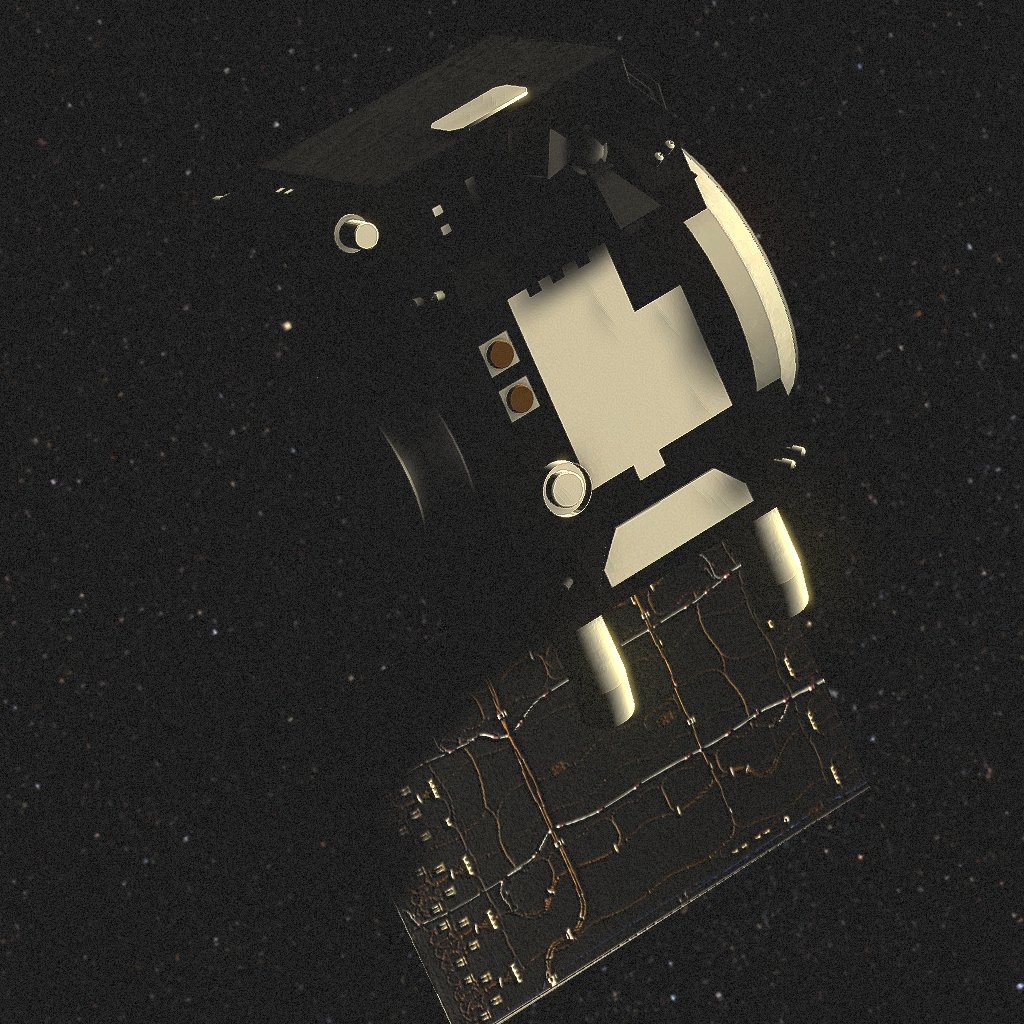proba_3_csc: (207, 24, 870, 1024)
